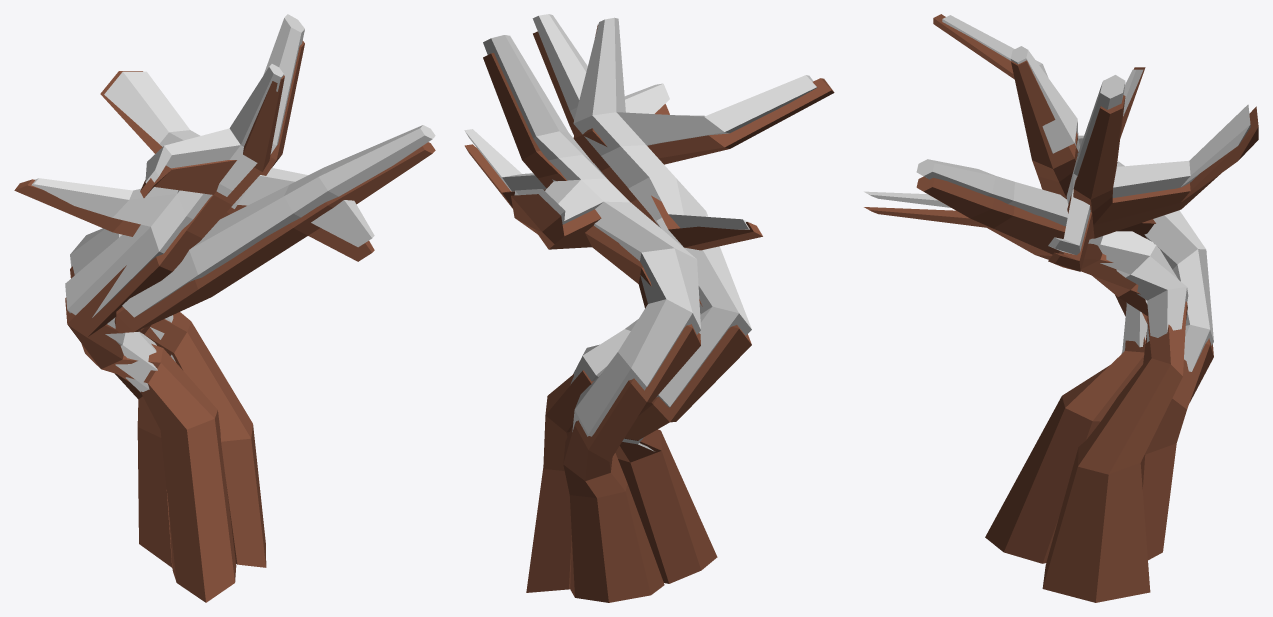
The model's file is Tree_06_winter_mat.fbx.
The picture shows the model from 3 angles, left to right: view 1: azimuth 30°, elevation 25°; view 2: azimuth 150°, elevation 25°; view 3: azimuth 270°, elevation 25°; orthographic projection. The views are drawn at different scales.
Visible parts, largest first — view 1: Tree_06_winter_mat; view 2: Tree_06_winter_mat; view 3: Tree_06_winter_mat.
Boxes of the visible parts, x1,y1,x2,y2 form: Tree_06_winter_mat: [14, 14, 435, 602]; Tree_06_winter_mat: [464, 14, 834, 602]; Tree_06_winter_mat: [864, 14, 1258, 602].
Bounding box in the file's own units: 289 × 440 × 291.
